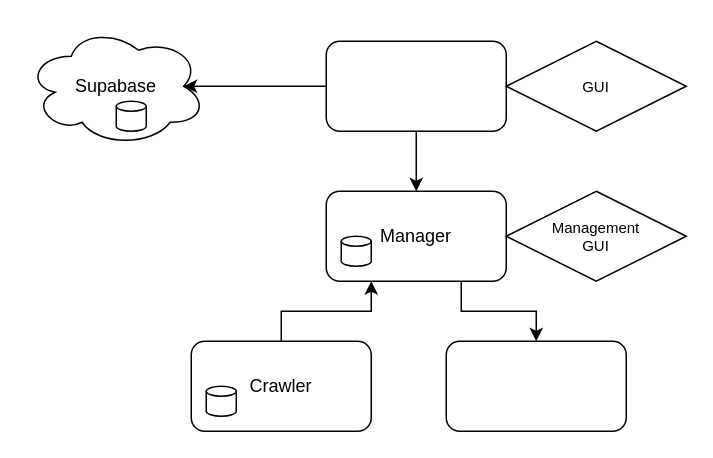
The diagram is 713 pixels wide and 458 high, and some of its shapes have lost their labels. Here are the shapes that lost their labels. From the top down, the centre of each, then its label:
At pixel 415 85: "Sveltekit".
At pixel 535 385: "Datenauswertung".
